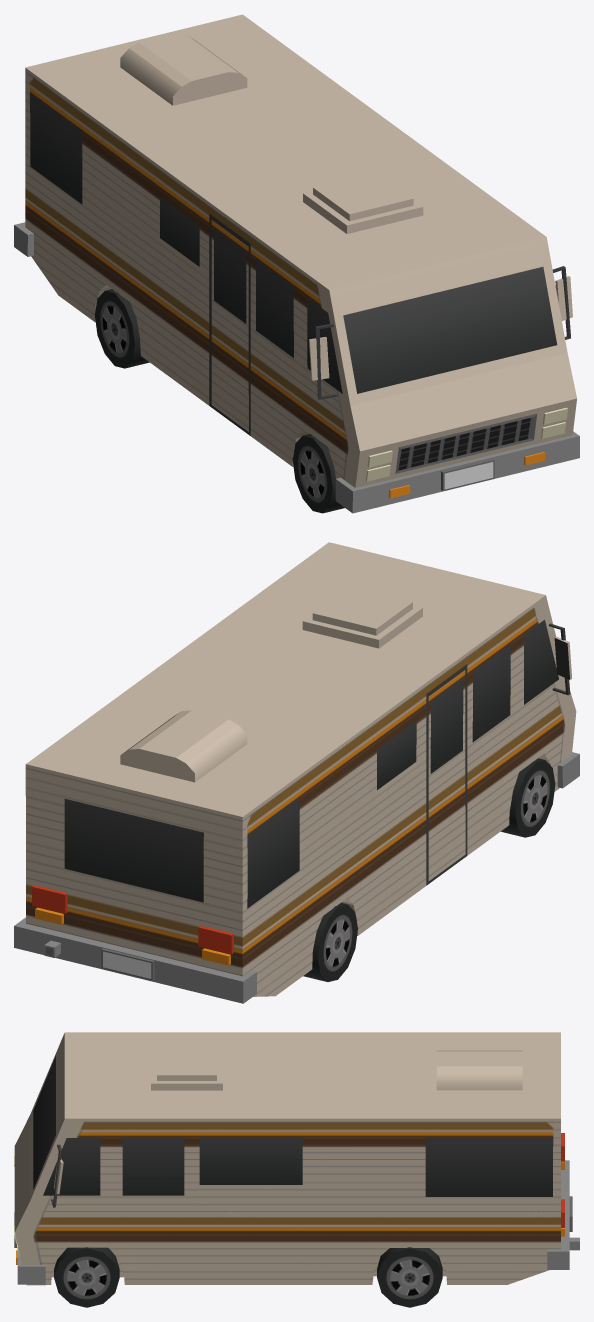
The model's file is RecreationalVehicle.fbx.
3 views of the same model, one above another, from view 1: azimuth 30°, elevation 25°; view 2: azimuth 150°, elevation 25°; view 3: azimuth 270°, elevation 25° (orthographic). The views are drawn at different scales.
Parts seen in each view (by area): view 1: RecreationalVehicle, TireBR, TireFR; view 2: RecreationalVehicle, TireFR, TireBR; view 3: RecreationalVehicle, TireFL, TireBL.
Boxes of the visible parts, box(x1,y1,x2,y2) form: RecreationalVehicle: box(14, 14, 579, 513); TireBR: box(94, 289, 149, 368); TireFR: box(292, 434, 344, 513); RecreationalVehicle: box(14, 542, 579, 1003); TireFR: box(501, 758, 555, 837); TireBR: box(303, 903, 357, 981); RecreationalVehicle: box(14, 1032, 579, 1285); TireFL: box(54, 1247, 119, 1307); TireBL: box(377, 1247, 442, 1307).
Size of the model in its own units: 243 by 223 by 561.
